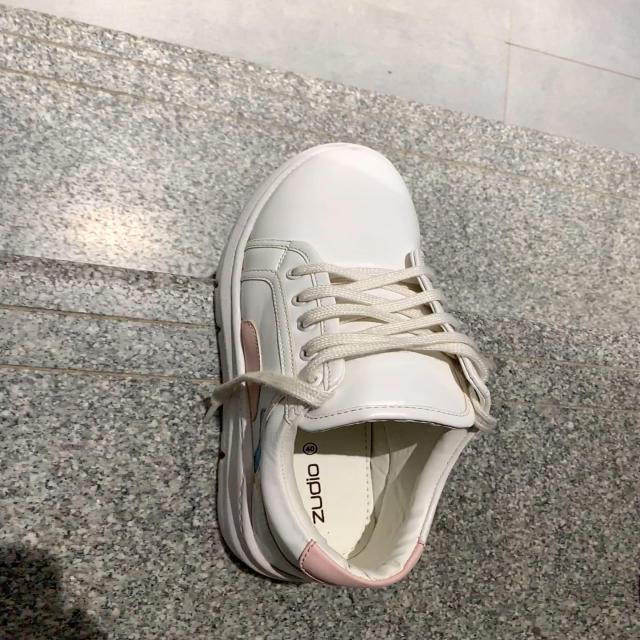shoe: (213, 143, 494, 591)
